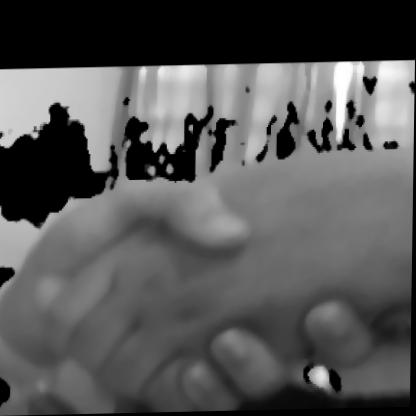handshake: (0, 143, 413, 414)
